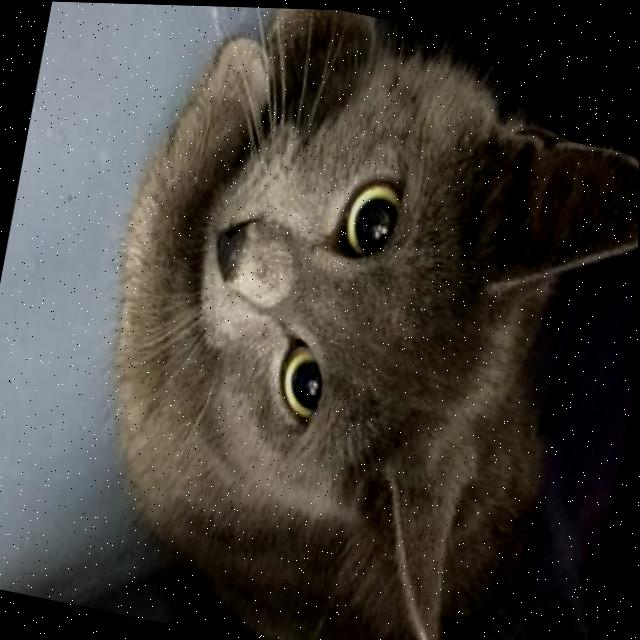Russian Blue: (55, 1, 640, 640)
